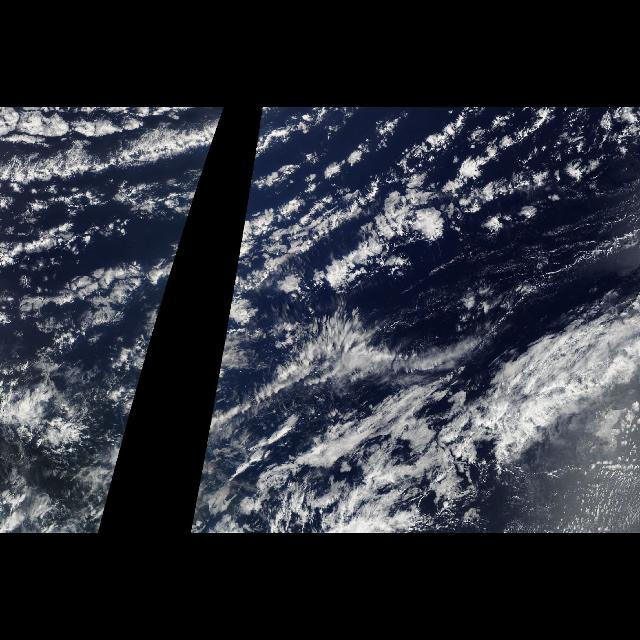Fish: (228, 299, 486, 413)
Flower: (268, 115, 634, 281)
